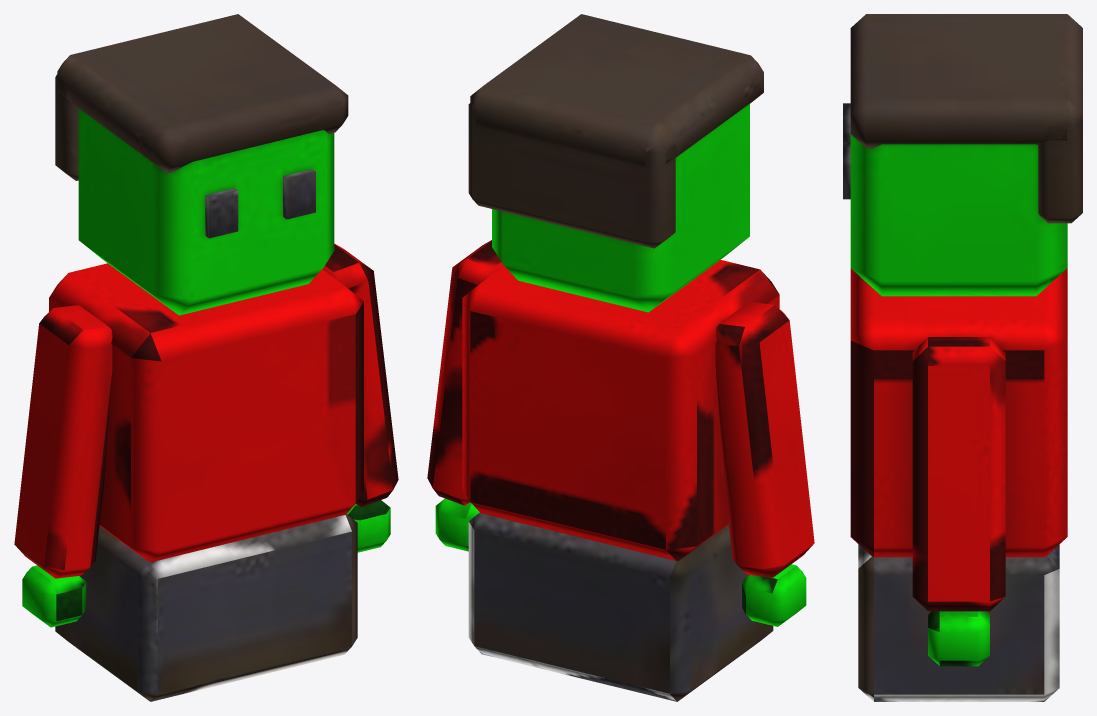
The model's file is crowd_person.glb.
3 renders of one model, left to right at view 1: azimuth 30°, elevation 25°; view 2: azimuth 150°, elevation 25°; view 3: azimuth 270°, elevation 25°, orthographic. The views are drawn at different scales.
Visible parts, largest first — view 1: body, head; view 2: body, head; view 3: body, head.
Boxes of the visible parts, left/top/right/bottom form: body: left=14, top=243, right=398, bottom=701; head: left=55, top=14, right=348, bottom=315; body: left=427, top=240, right=814, bottom=701; head: left=468, top=14, right=763, bottom=312; body: left=850, top=268, right=1067, bottom=701; head: left=843, top=14, right=1082, bottom=296.
Size of the model in its own units: 0.5477 by 0.85 by 0.31.
1 material, 1 textured.
